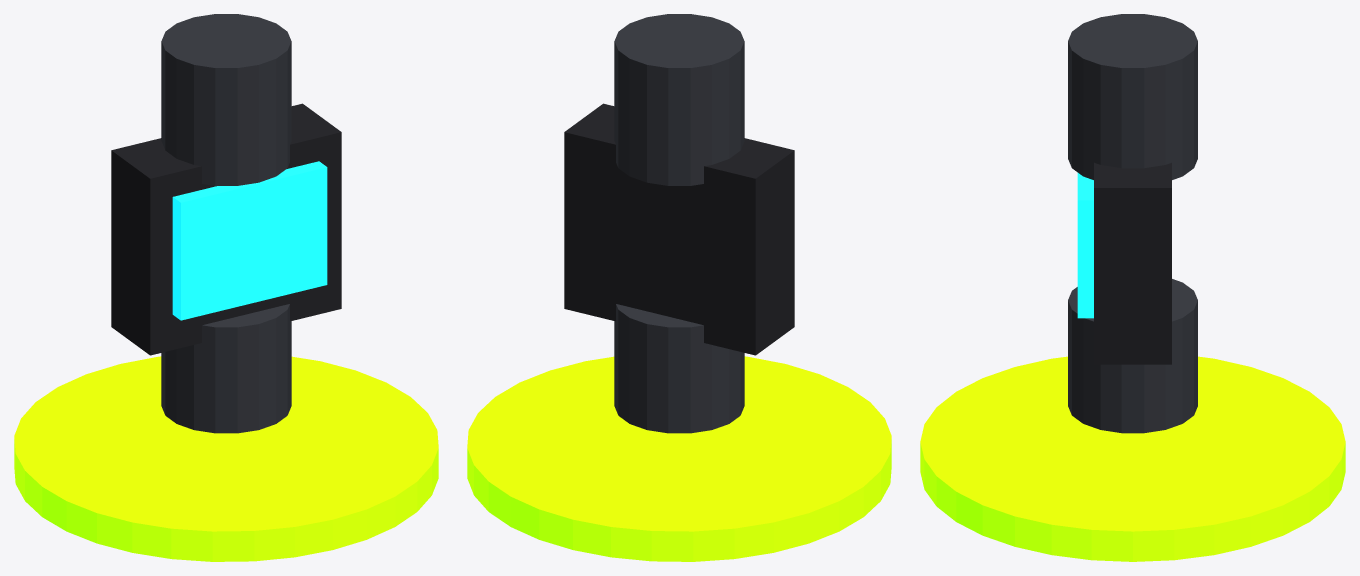
The model's file is tech_smart_watch.glb.
The picture shows the model from 3 angles, left to right: view 1: azimuth 30°, elevation 25°; view 2: azimuth 150°, elevation 25°; view 3: azimuth 270°, elevation 25°; orthographic projection.
Parts seen in each view (by area): view 1: 08_05_Popular_Tech_Smart_Watch_ROOT_base, 08_05_Popular_Tech_Smart_Watch_part_01, 08_05_Popular_Tech_Smart_Watch_part_04, 08_05_Popular_Tech_Smart_Watch_part_02, 08_05_Popular_Tech_Smart_Watch_part_03; view 2: 08_05_Popular_Tech_Smart_Watch_ROOT_base, 08_05_Popular_Tech_Smart_Watch_part_01, 08_05_Popular_Tech_Smart_Watch_part_04, 08_05_Popular_Tech_Smart_Watch_part_03; view 3: 08_05_Popular_Tech_Smart_Watch_ROOT_base, 08_05_Popular_Tech_Smart_Watch_part_04, 08_05_Popular_Tech_Smart_Watch_part_01, 08_05_Popular_Tech_Smart_Watch_part_03, 08_05_Popular_Tech_Smart_Watch_part_02.
Boxes of the visible parts, x1=… form: 08_05_Popular_Tech_Smart_Watch_ROOT_base: x1=14, y1=356, x2=438, y2=561; 08_05_Popular_Tech_Smart_Watch_part_01: x1=111, y1=103, x2=341, y2=355; 08_05_Popular_Tech_Smart_Watch_part_04: x1=161, y1=14, x2=291, y2=185; 08_05_Popular_Tech_Smart_Watch_part_02: x1=172, y1=161, x2=327, y2=320; 08_05_Popular_Tech_Smart_Watch_part_03: x1=161, y1=304, x2=291, y2=433; 08_05_Popular_Tech_Smart_Watch_ROOT_base: x1=467, y1=356, x2=891, y2=561; 08_05_Popular_Tech_Smart_Watch_part_01: x1=564, y1=103, x2=794, y2=355; 08_05_Popular_Tech_Smart_Watch_part_04: x1=614, y1=14, x2=744, y2=185; 08_05_Popular_Tech_Smart_Watch_part_03: x1=614, y1=304, x2=744, y2=433; 08_05_Popular_Tech_Smart_Watch_ROOT_base: x1=920, y1=356, x2=1345, y2=561; 08_05_Popular_Tech_Smart_Watch_part_04: x1=1068, y1=14, x2=1197, y2=179; 08_05_Popular_Tech_Smart_Watch_part_01: x1=1094, y1=162, x2=1171, y2=364; 08_05_Popular_Tech_Smart_Watch_part_03: x1=1068, y1=279, x2=1197, y2=433; 08_05_Popular_Tech_Smart_Watch_part_02: x1=1077, y1=173, x2=1093, y2=318.
Bounding box in the file's own units: 0.76 × 0.85 × 0.76.
